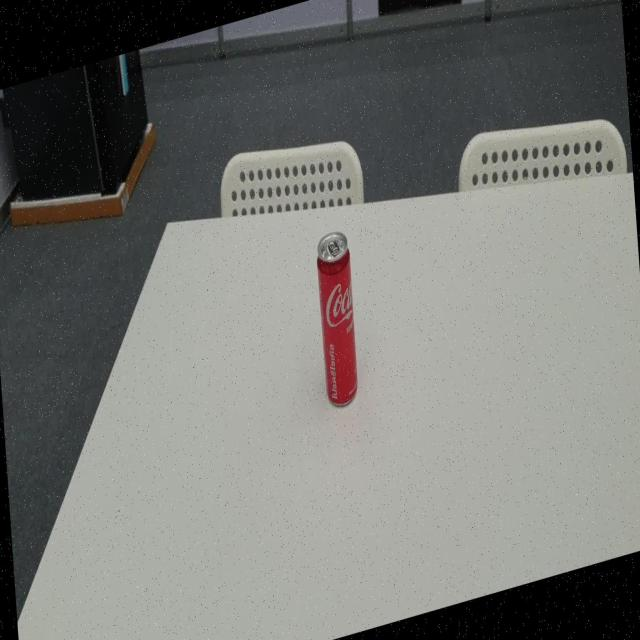coca-cola: (313, 222, 362, 417)
